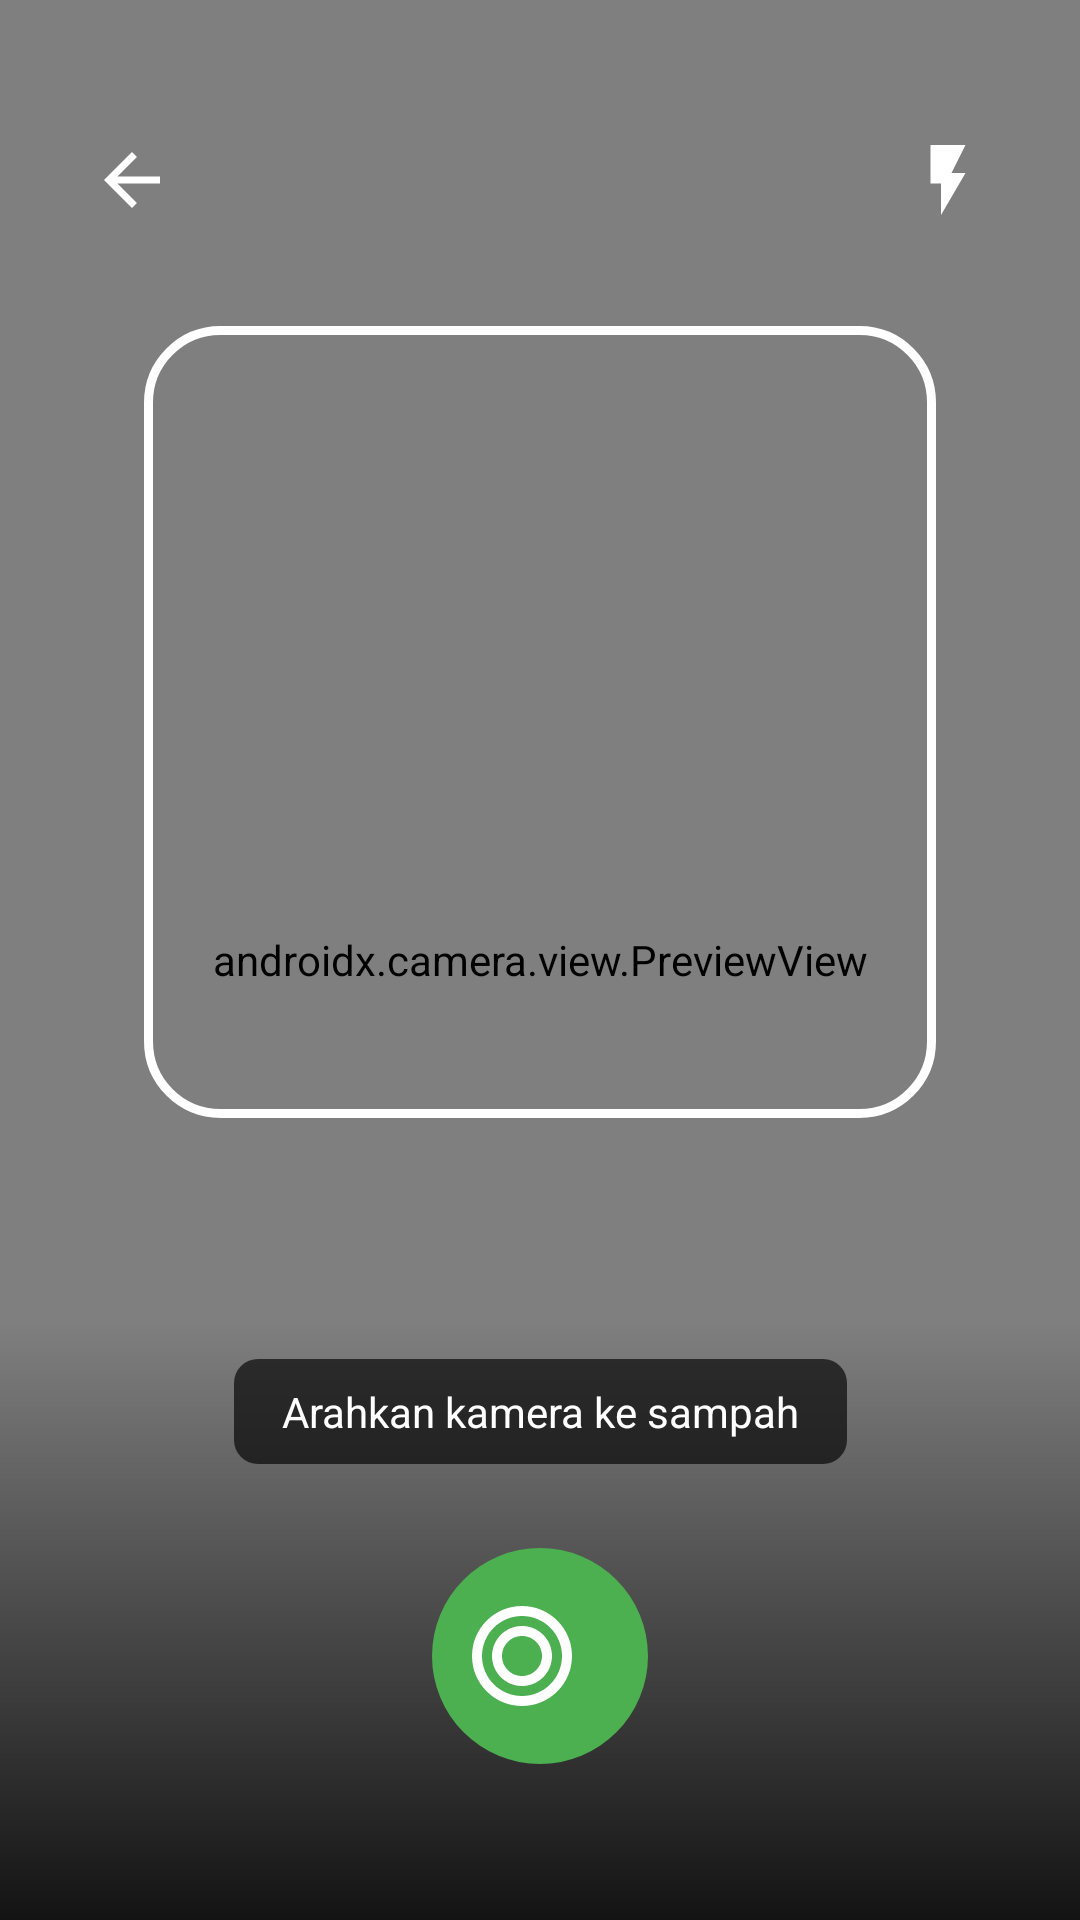

Named icons in this screenshot (1080px×1920px) and their centers, (x=x, y=y):
Kembali: (x=132, y=180)
Nyalakan atau Matikan Flash: (x=948, y=180)
Pindai Sampah: (x=540, y=1656)
